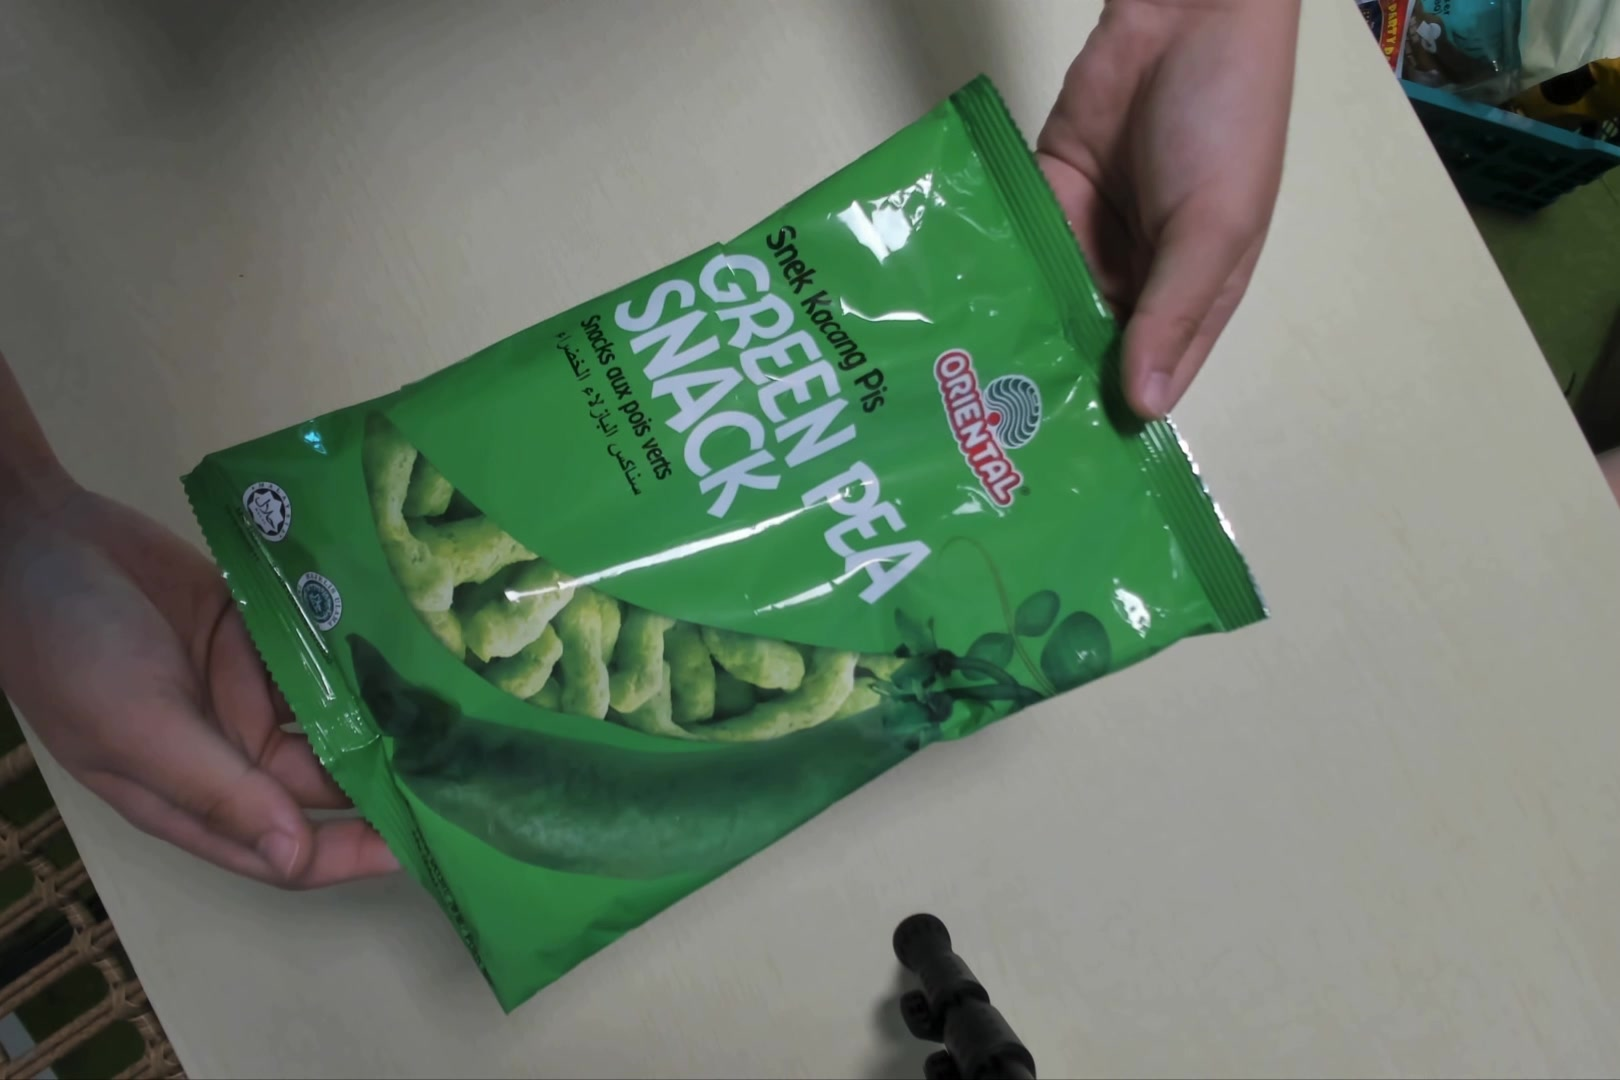Nuts_100-199g_Halal_NonHealthy: (215, 83, 1252, 1029)
